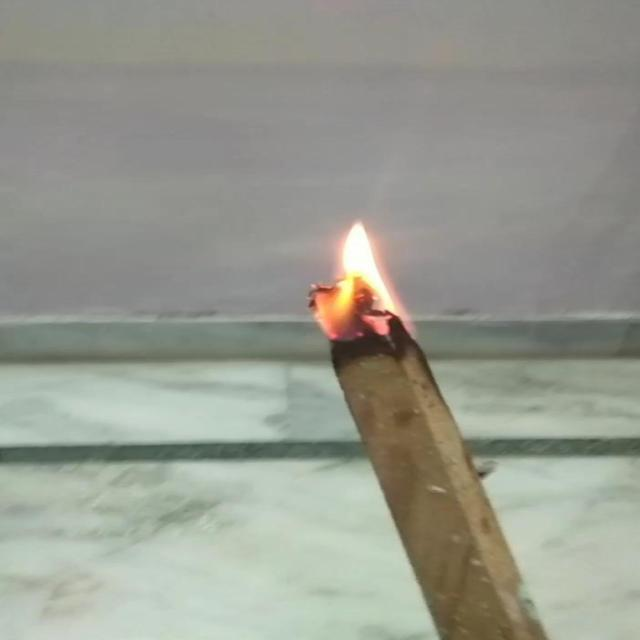smoke: (296, 218, 420, 336)
